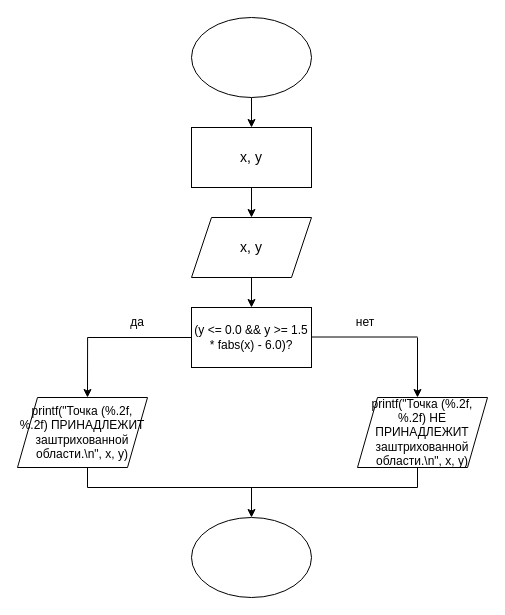
Some shapes in this 505 by 615 pixel diagram are drawn without their labels. The shapes that lost their labels are listed below. From the top down, each one's box as (x1, y1, x2, y2) in pixels, then its label:
(190, 16, 312, 98): Начало
(190, 516, 312, 598): Конец
